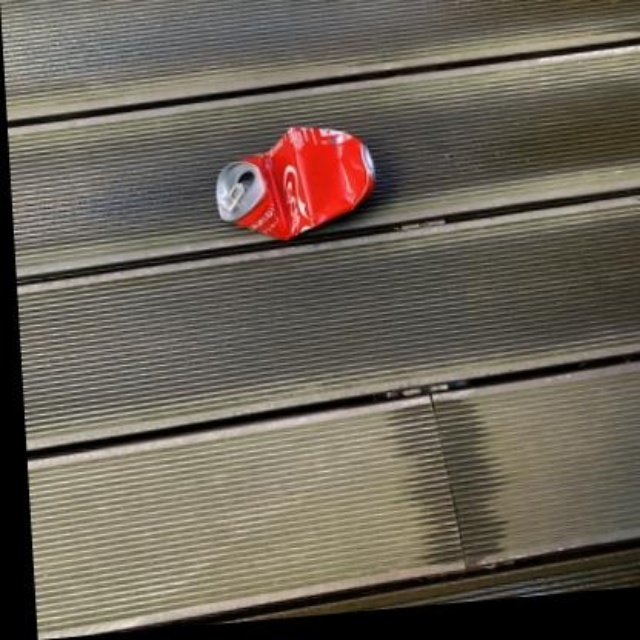trash: (217, 126, 374, 238)
